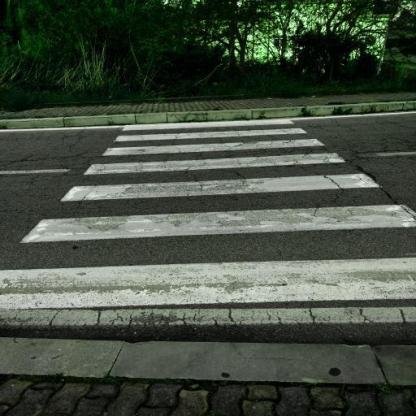crosswalk: (0, 200, 416, 314), (78, 136, 356, 177)
